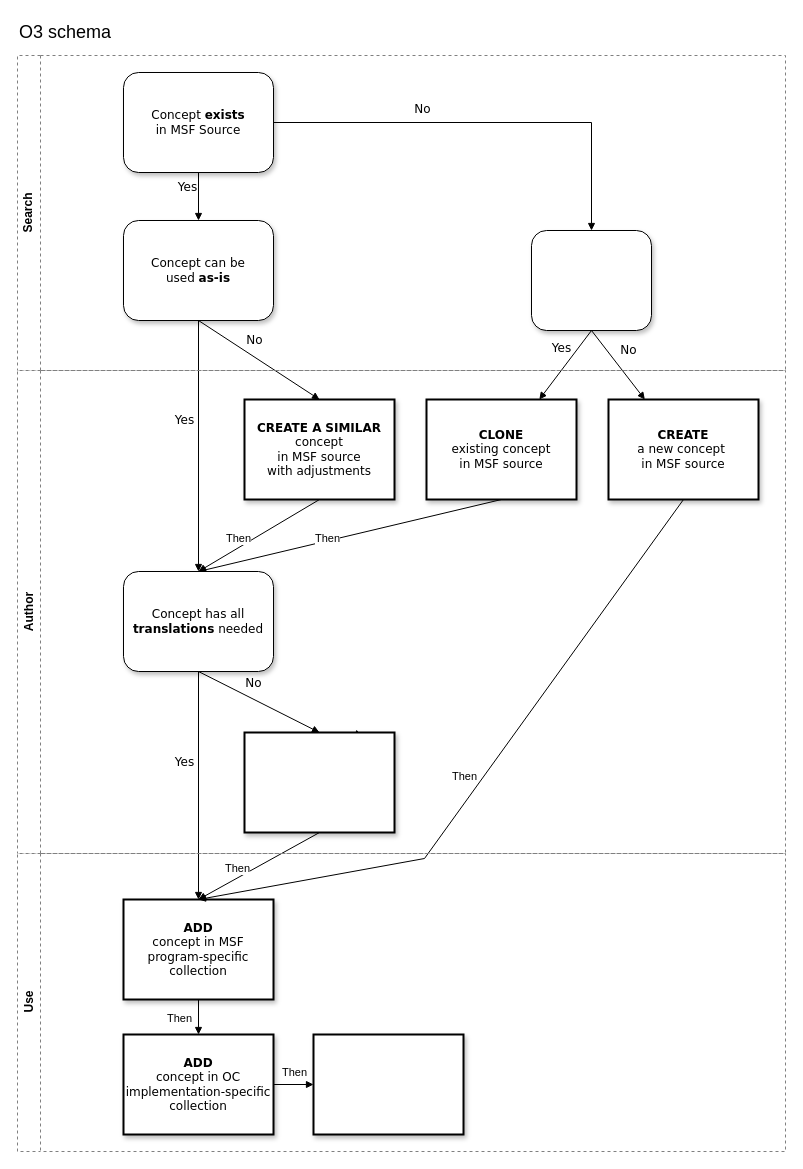
This 803x1169 diagram has some shape labels left out. The centre of each missing label's shape, as x and y in pixels:
Concept exists in CIEL or PIH source: the point at 592,282
EDIT concept in MSF source to add translations: the point at 320,783
RELEASE the implementation-specific collection: the point at 389,1085
